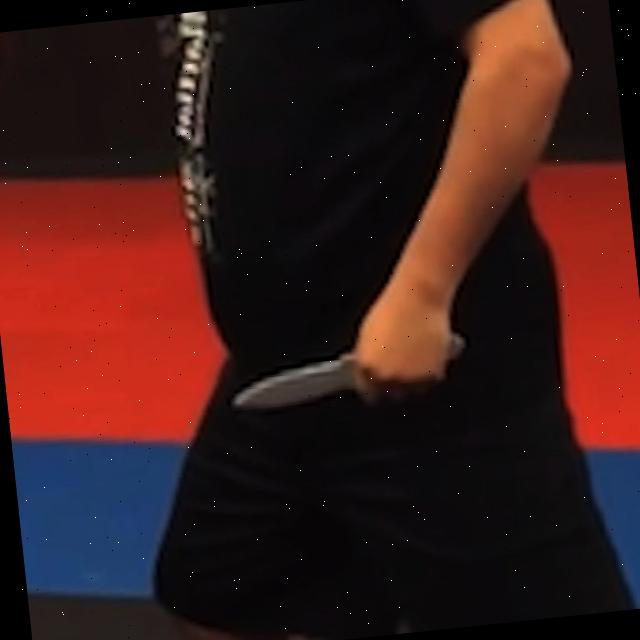suspicion: (185, 0, 612, 433), (226, 344, 359, 416), (445, 328, 473, 357)
